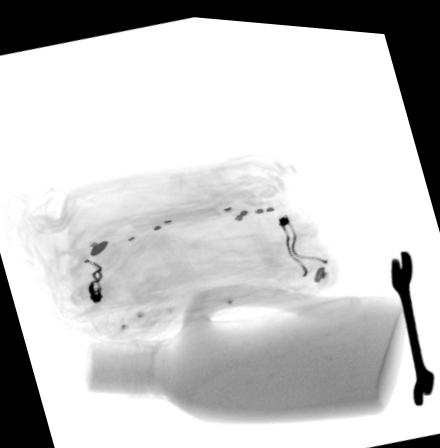Wrench: (389, 241, 435, 398)
